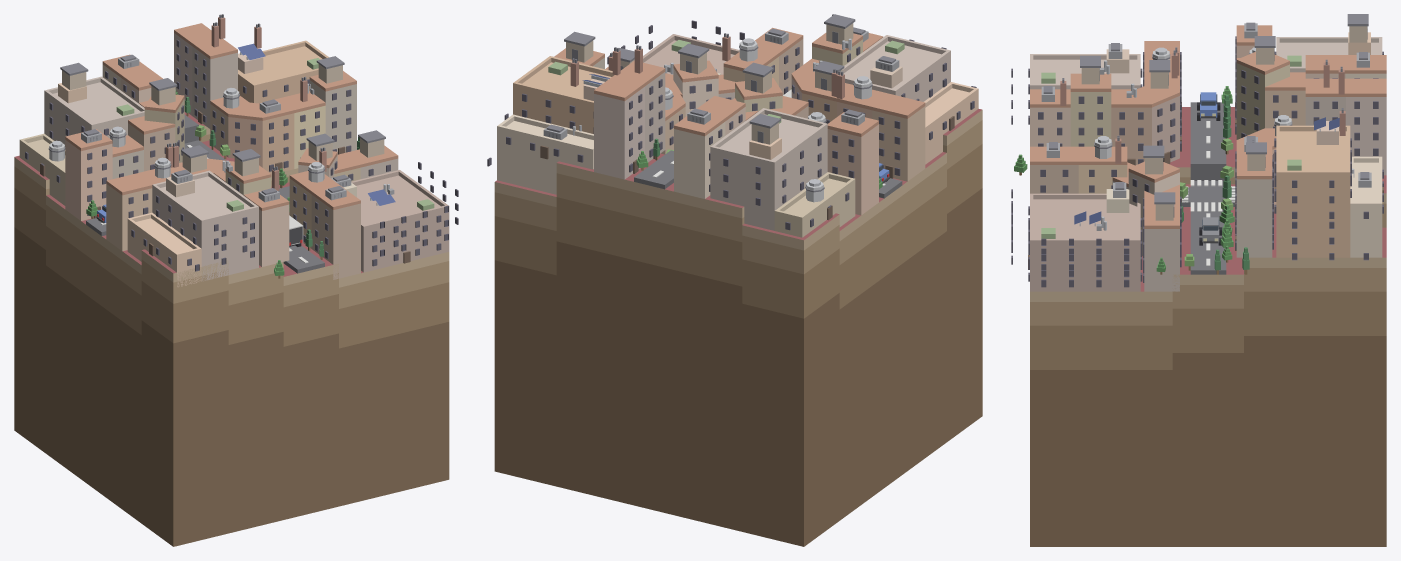
The model's file is block_14_leakingdam_0.glb.
3 renders of one model, left to right at view 1: azimuth 30°, elevation 25°; view 2: azimuth 150°, elevation 25°; view 3: azimuth 270°, elevation 25°, orthographic. The views are drawn at different scales.
Parts seen in each view (by area): view 1: Patch_MidRight_b14_LD, Cerda_MidRight_b14_LD, Insets_MidRight_b14_LD, CerdaRoofProps_MidRight_b14_LD, Roads_MidRight_b14_LD; view 2: Patch_MidRight_b14_LD, Insets_MidRight_b14_LD, Cerda_MidRight_b14_LD, CerdaRoofProps_MidRight_b14_LD, Roads_MidRight_b14_LD; view 3: Patch_MidRight_b14_LD, Cerda_MidRight_b14_LD, Insets_MidRight_b14_LD, CerdaRoofProps_MidRight_b14_LD, Roads_MidRight_b14_LD, Asset_Car.029_LD, Asset_Car.028_LD, Zebra_MidRight_b14_LD.
Boxes of the visible parts, x1,y1,x2,y2 form: Patch_MidRight_b14_LD: (14,112,449,546); Cerda_MidRight_b14_LD: (65,23,398,279); Insets_MidRight_b14_LD: (19,40,458,287); CerdaRoofProps_MidRight_b14_LD: (48,14,395,205); Roads_MidRight_b14_LD: (86,115,324,273); Patch_MidRight_b14_LD: (494,109,982,546); Insets_MidRight_b14_LD: (487,20,978,237); Cerda_MidRight_b14_LD: (554,27,925,215); CerdaRoofProps_MidRight_b14_LD: (543,14,899,202); Roads_MidRight_b14_LD: (634,150,902,198); Patch_MidRight_b14_LD: (1030,107,1386,546); Cerda_MidRight_b14_LD: (1030,25,1386,291); Insets_MidRight_b14_LD: (1011,32,1383,291); CerdaRoofProps_MidRight_b14_LD: (1041,14,1371,230); Roads_MidRight_b14_LD: (1182,102,1234,274); Asset_Car.029_LD: (1197,92,1220,120); Asset_Car.028_LD: (1199,217,1222,245); Zebra_MidRight_b14_LD: (1182,180,1235,211).
Size of the model in its own units: 10 by 12.66 by 10.
